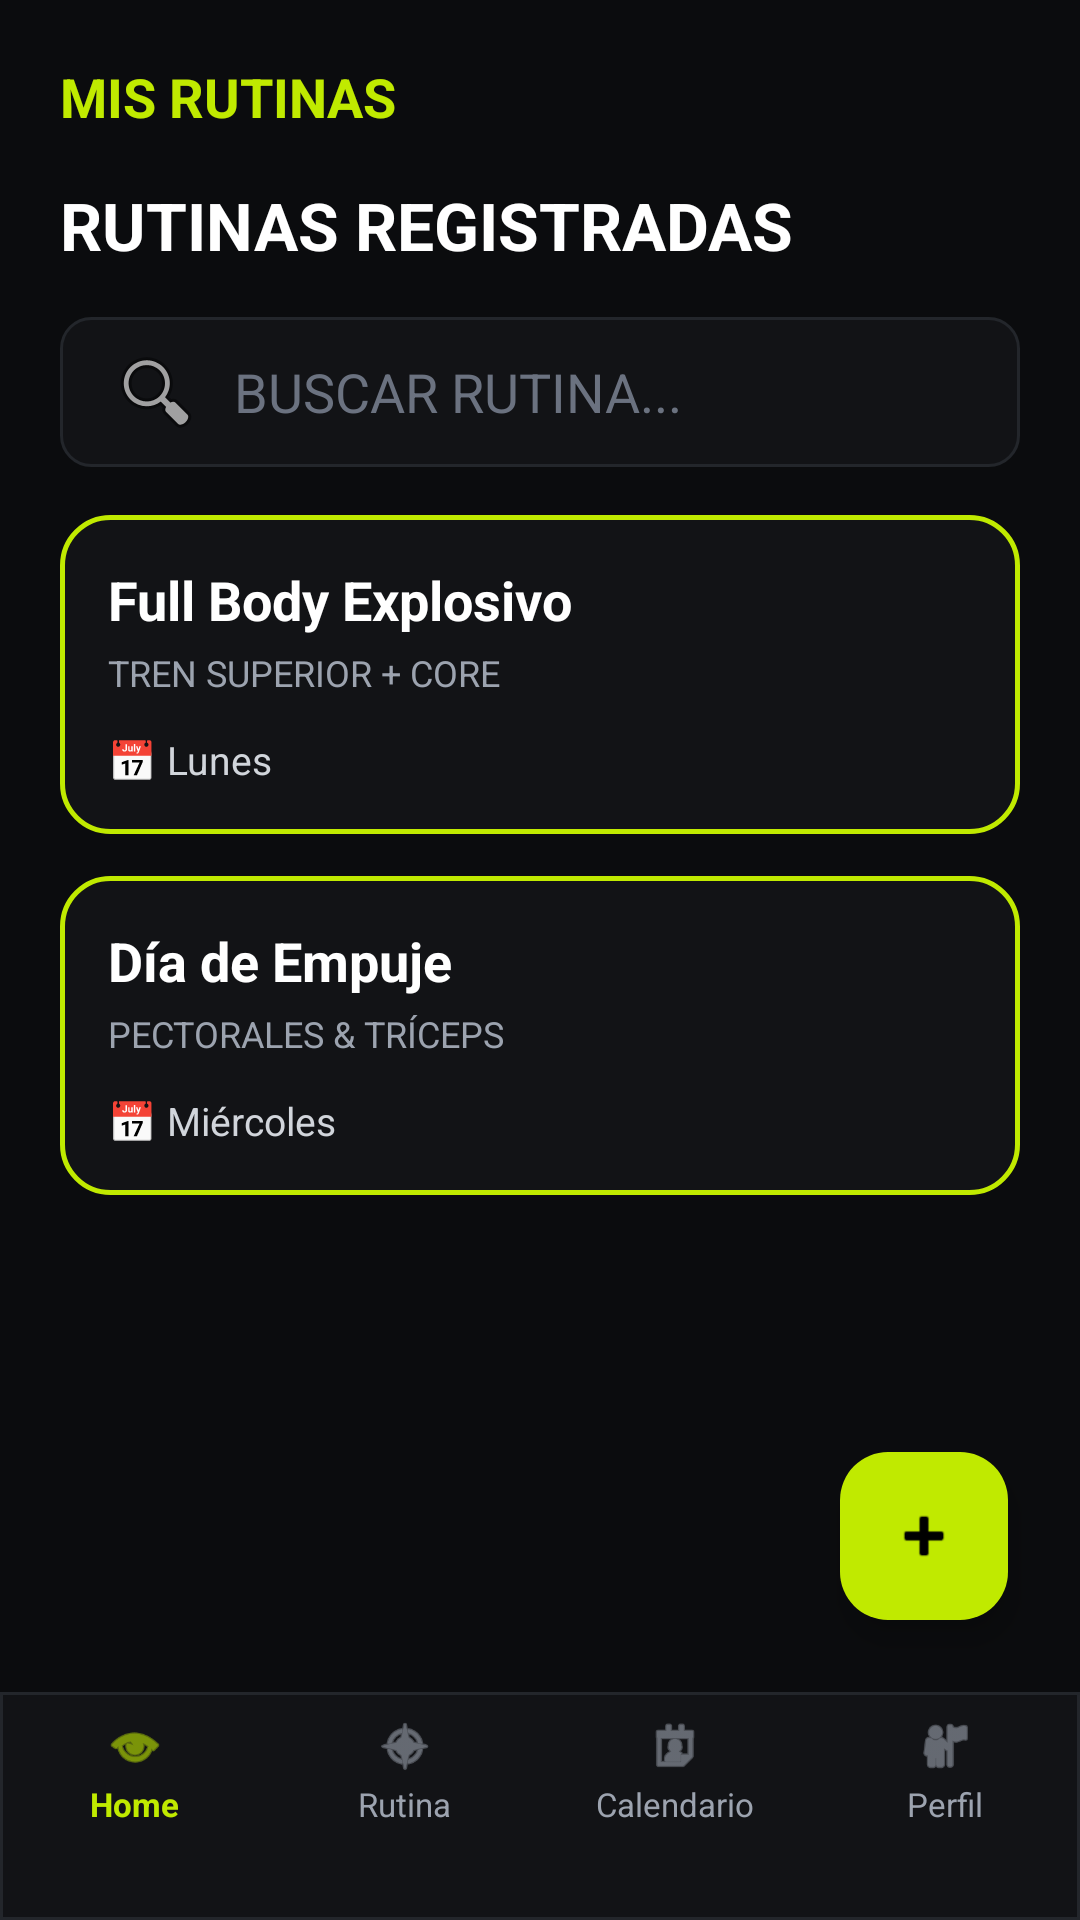

Named icons in this screenshot (1080 × 1920) and their bounding boxes, {"left": x1, "top": y1, "right": x2, "bottom": y2}:
Agregar Rutina: {"left": 840, "top": 1452, "right": 1008, "bottom": 1620}
compass: {"left": 381, "top": 1723, "right": 428, "bottom": 1770}
view: {"left": 111, "top": 1732, "right": 159, "bottom": 1763}
